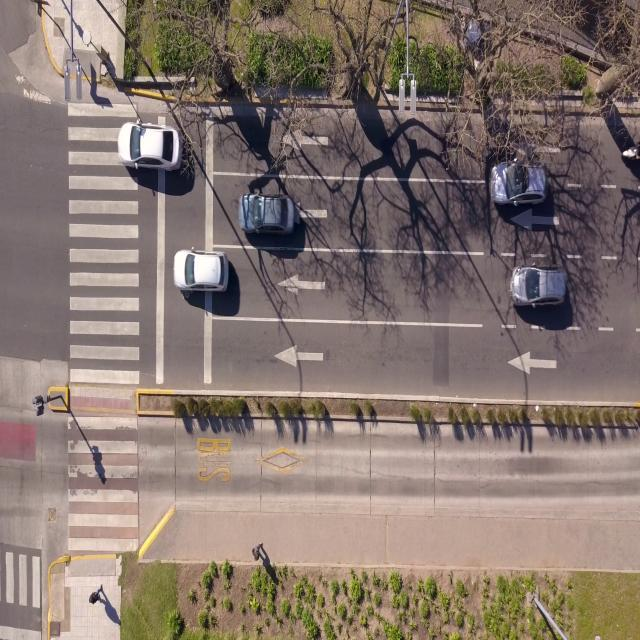vehicle: (118, 123, 182, 169), (489, 157, 548, 205), (240, 191, 298, 234), (510, 265, 568, 307), (173, 250, 229, 292), (89, 585, 105, 606), (252, 542, 262, 561)
